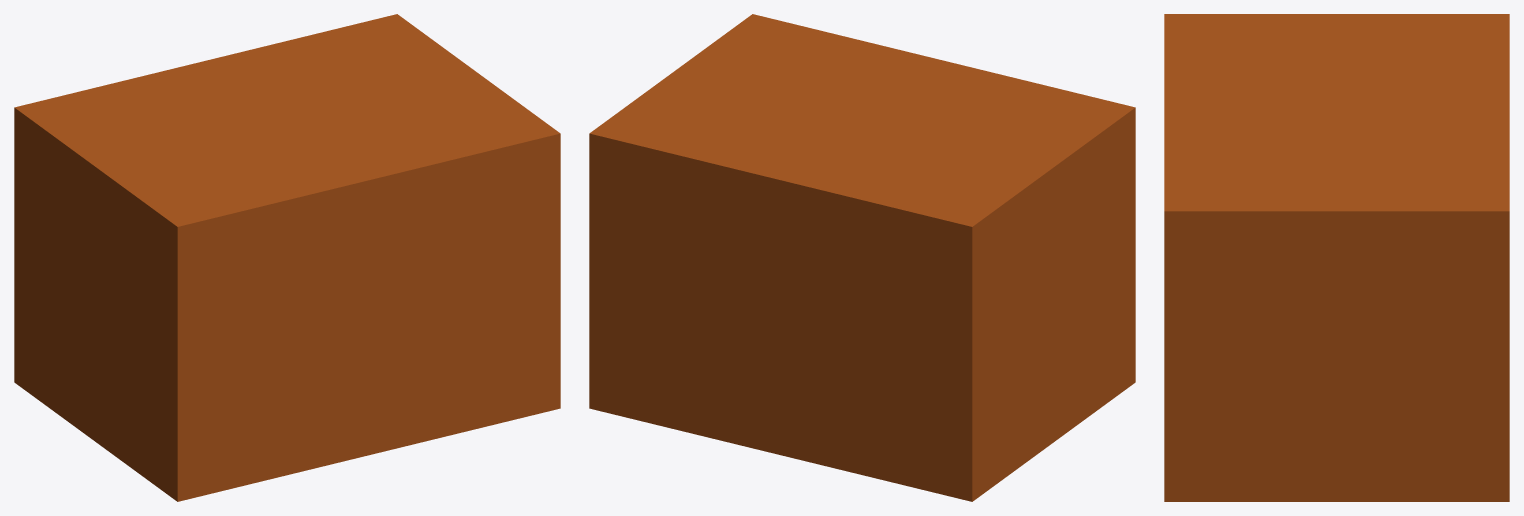
File: small_rock_02.DAE
The picture shows the model from 3 angles, left to right: view 1: azimuth 30°, elevation 25°; view 2: azimuth 150°, elevation 25°; view 3: azimuth 270°, elevation 25°; orthographic projection. The views are drawn at different scales.
Visible parts, largest first — view 1: bounds; view 2: bounds; view 3: bounds.
Part boxes in pixels (<box>): bounds: <box>14,14,560,501</box>; bounds: <box>589,14,1135,501</box>; bounds: <box>1164,14,1509,501</box>.
Bounding box in the file's own units: 12.16 × 8.98 × 8.34.
